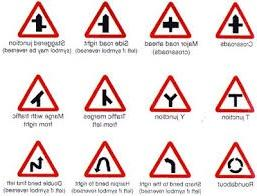double_bend_right: (16, 140, 58, 177)
